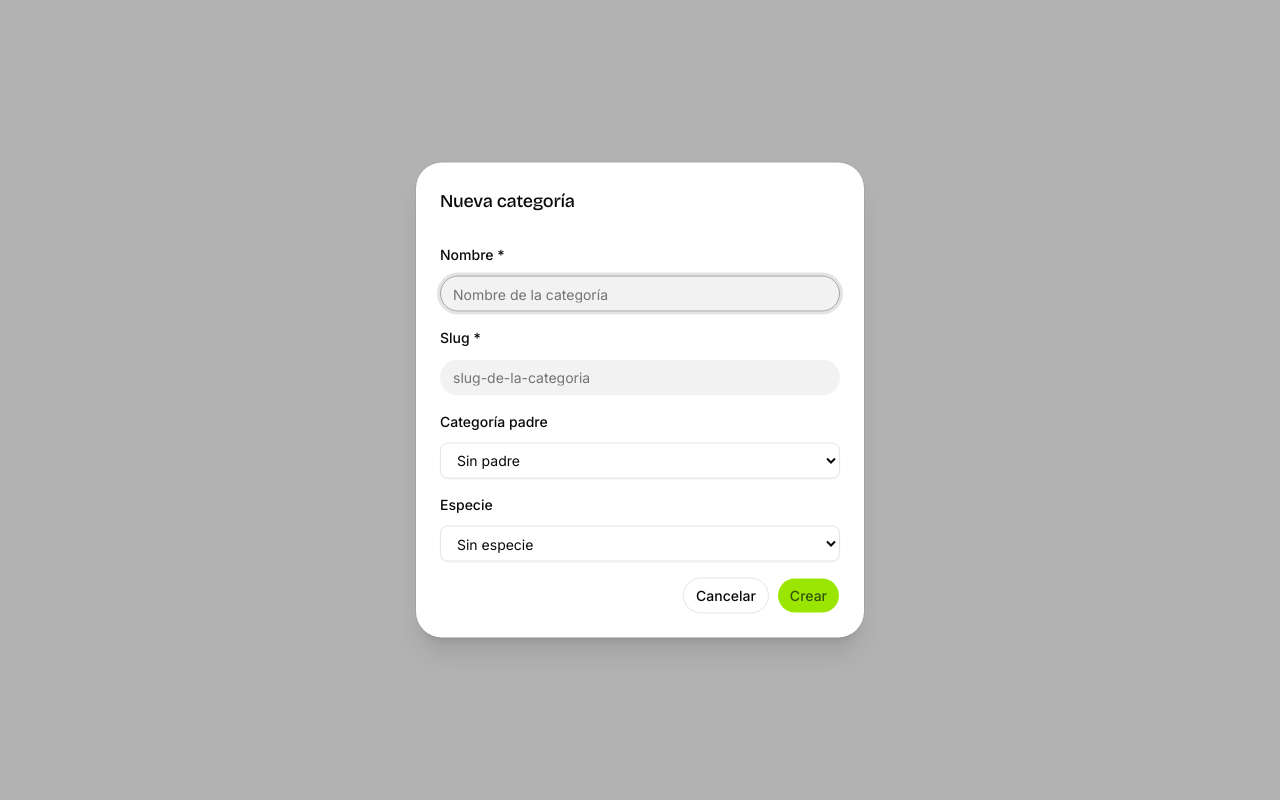
Scenario: CategoryEditDialog › slug auto-generated from name (S6)
The width and height of the screenshot is (1280, 800).
Step 1. Type "Alimento Premium" into the field labelled "Nombre *" → (640, 294), box [440, 276, 840, 312]
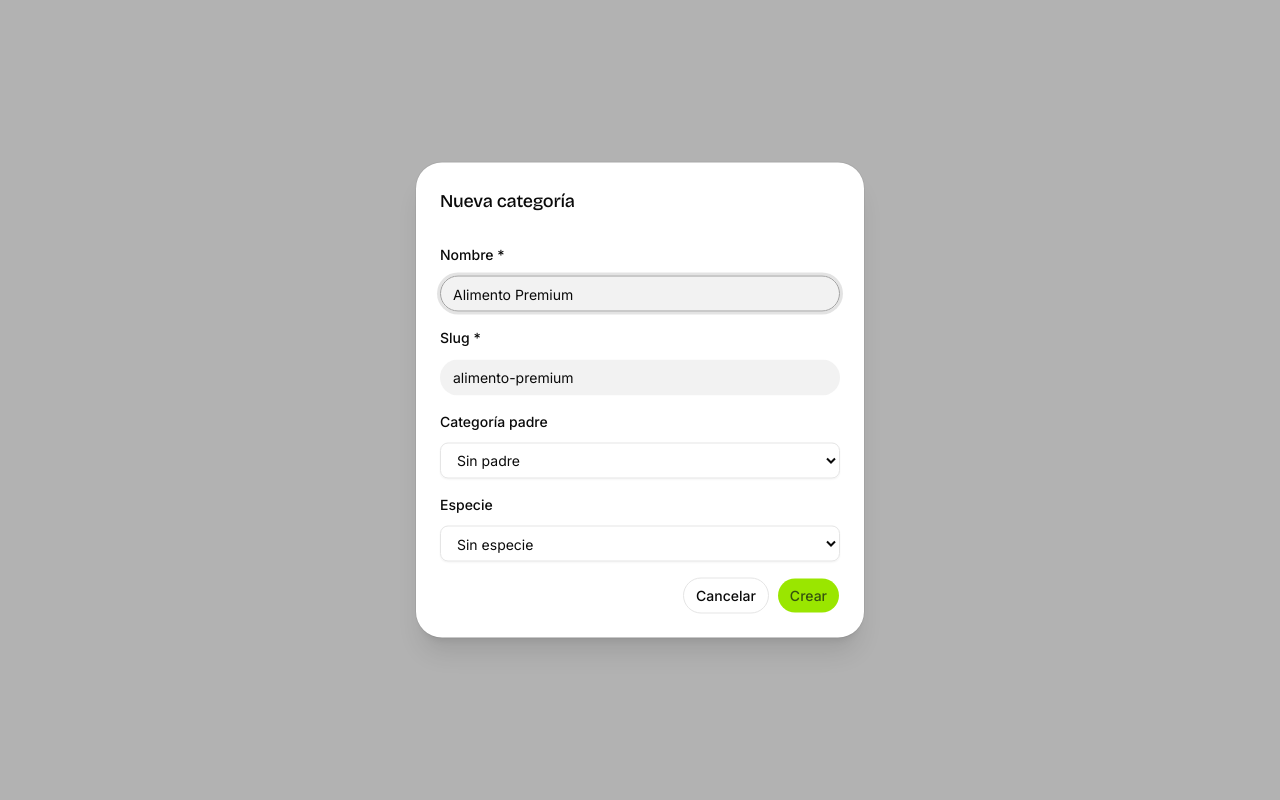
Expected: the field labelled "Slug *" holds "alimento-premium", [440, 359, 840, 395]
